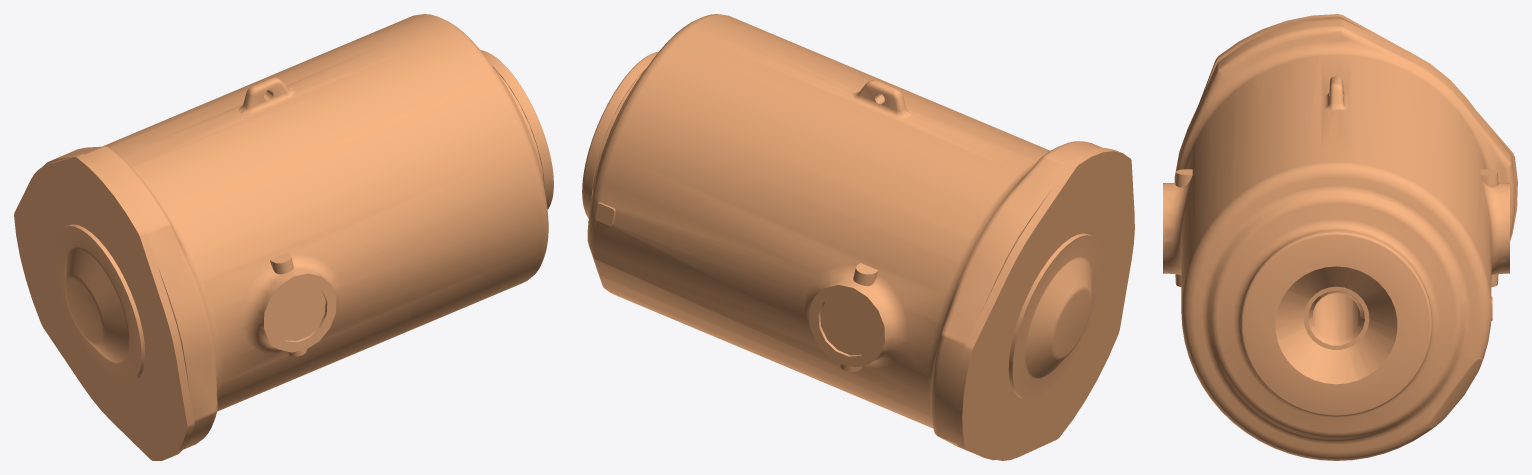
The picture shows the model from 3 angles, left to right: view 1: azimuth 30°, elevation 25°; view 2: azimuth 150°, elevation 25°; view 3: azimuth 270°, elevation 25°; orthographic projection. The views are drawn at different scales.
Visible parts, largest first — view 1: cylinder_link; view 2: cylinder_link; view 3: cylinder_link.
Boxes of the visible parts, left/top/right/bottom form: cylinder_link: left=14, top=14, right=553, bottom=460; cylinder_link: left=582, top=14, right=1134, bottom=460; cylinder_link: left=1163, top=14, right=1517, bottom=460.
Bounding box in the file's own units: 0.6022 × 0.3888 × 0.4367.
